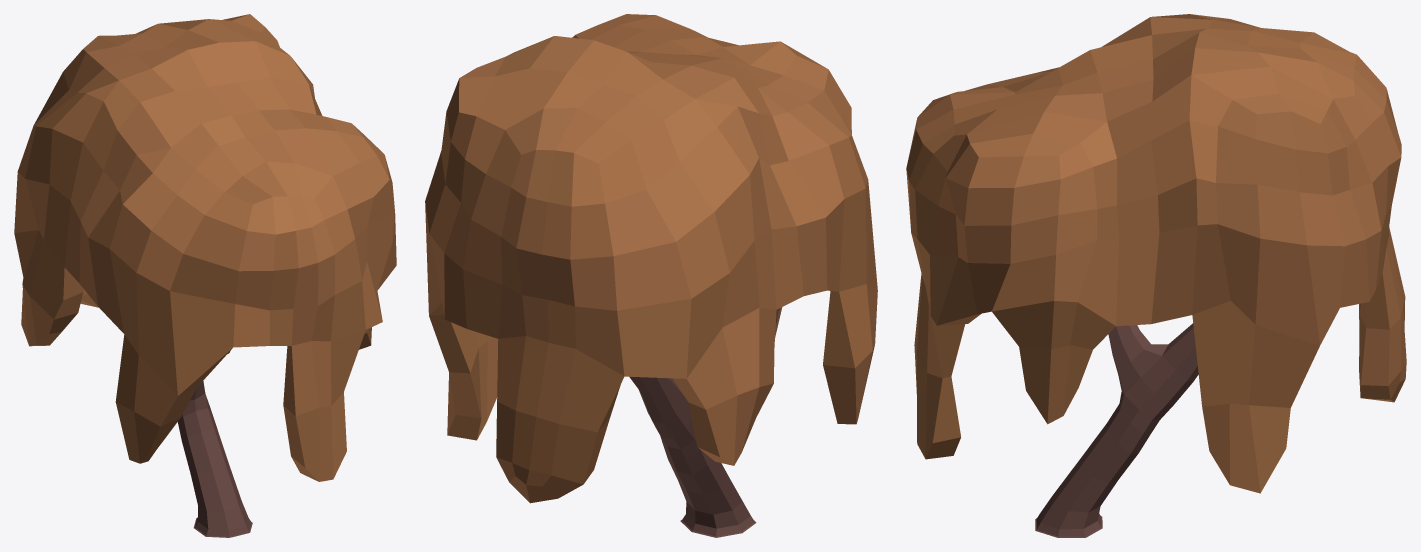
The model's file is Willow_Autumn_4.glb.
3 renders of one model, left to right at view 1: azimuth 30°, elevation 25°; view 2: azimuth 150°, elevation 25°; view 3: azimuth 270°, elevation 25°, orthographic. The views are drawn at different scales.
Parts seen in each view (by area): view 1: Willow_Autumn_4_Cube.085; view 2: Willow_Autumn_4_Cube.085; view 3: Willow_Autumn_4_Cube.085.
Part boxes in pixels (x1,y1,x2,y2): Willow_Autumn_4_Cube.085: [14, 14, 396, 537]; Willow_Autumn_4_Cube.085: [425, 14, 877, 537]; Willow_Autumn_4_Cube.085: [906, 14, 1406, 537].
Size of the model in its own units: 2.19 by 3.39 by 3.04.
